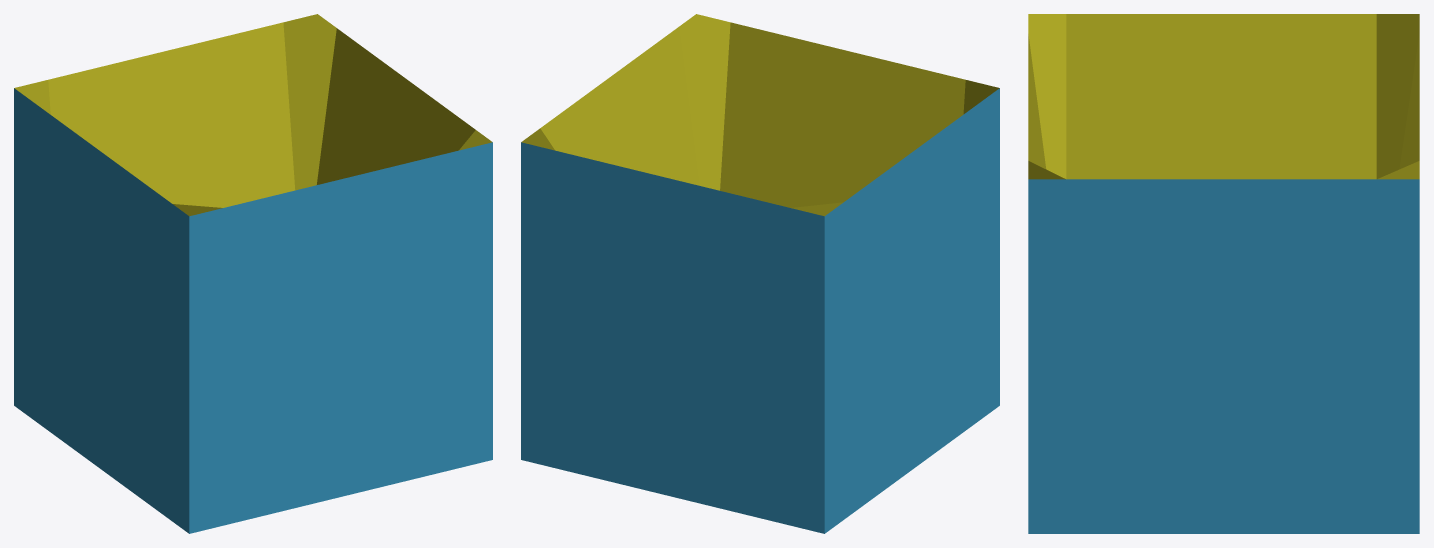
The model's file is boxin.glb.
3 views of the same model, side by side, from view 1: azimuth 30°, elevation 25°; view 2: azimuth 150°, elevation 25°; view 3: azimuth 270°, elevation 25° (orthographic). The views are drawn at different scales.
Parts seen in each view (by area): view 1: Cube; view 2: Cube; view 3: Cube.
Part boxes in pixels (x1,y1,x2,y2): Cube: [14, 14, 492, 533]; Cube: [521, 14, 999, 533]; Cube: [1028, 14, 1419, 533].
Bounding box in the file's own units: 2 × 2 × 2.
